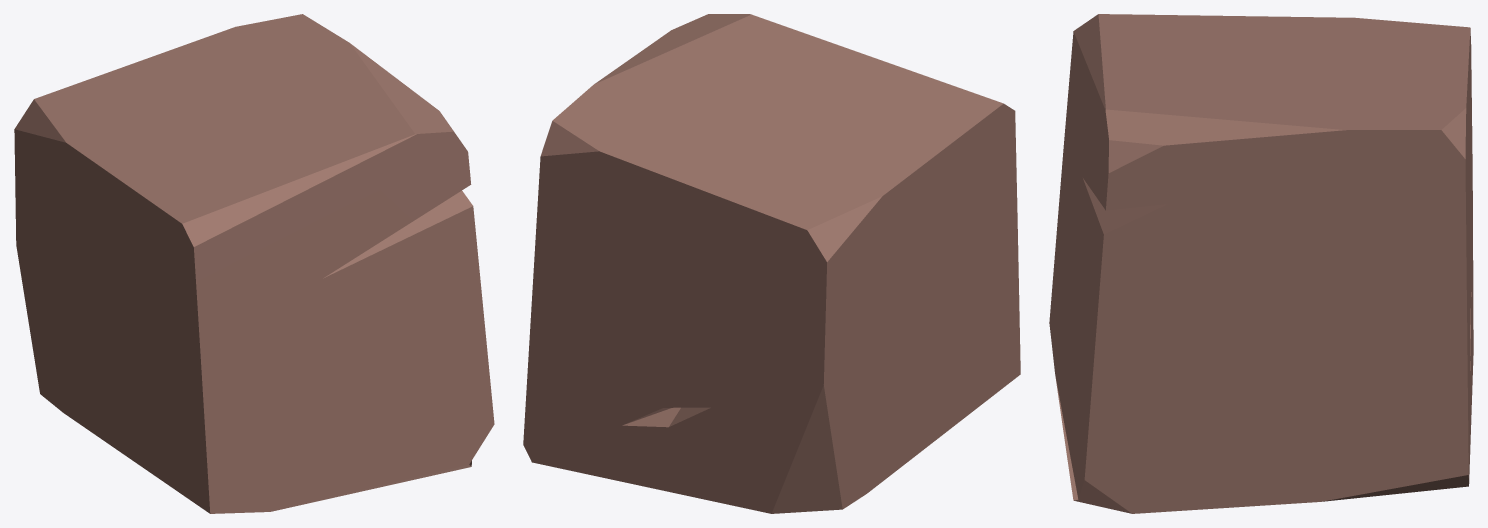
The model's file is Stone_003.FBX.
The picture shows the model from 3 angles, left to right: view 1: azimuth 30°, elevation 25°; view 2: azimuth 150°, elevation 25°; view 3: azimuth 270°, elevation 25°; orthographic projection. The views are drawn at different scales.
Parts seen in each view (by area): view 1: Stone_003; view 2: Stone_003; view 3: Stone_003.
Part boxes in pixels (x1,y1,x2,y2): Stone_003: [14, 14, 494, 513]; Stone_003: [523, 14, 1020, 513]; Stone_003: [1049, 14, 1473, 513].
Size of the model in its own units: 39.05 by 40.7 by 42.2.
